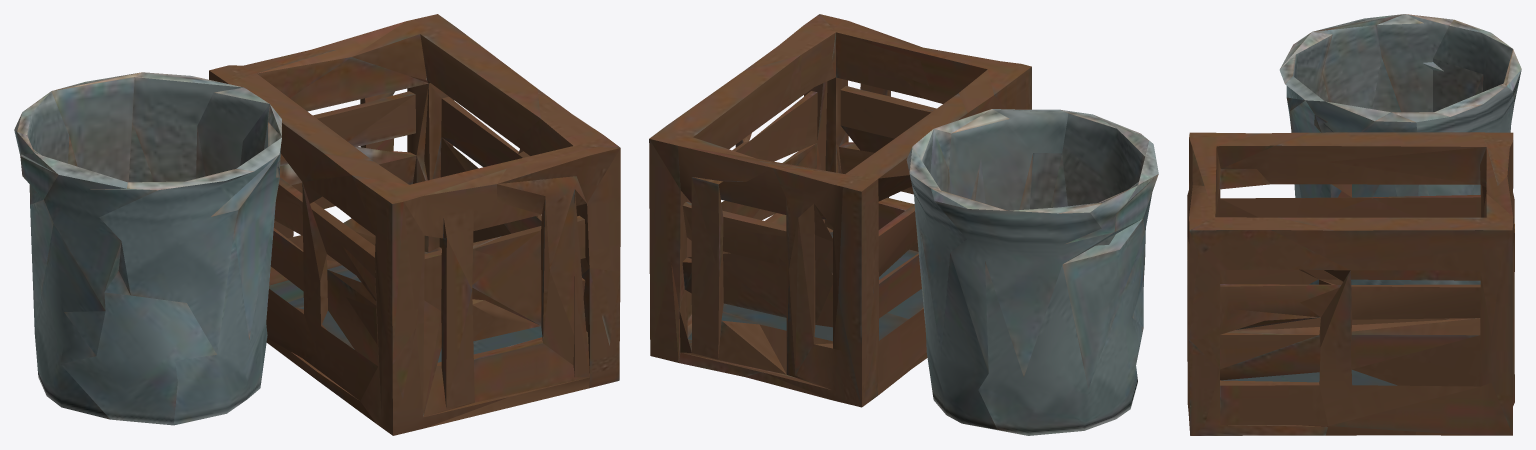
The model's file is roofBucket.glb.
3 views of the same model, side by side, from view 1: azimuth 30°, elevation 25°; view 2: azimuth 150°, elevation 25°; view 3: azimuth 270°, elevation 25° (orthographic). The views are drawn at different scales.
Size of the model in its own units: 1.87 by 0.9674 by 1.32.
1 material, 1 textured.
